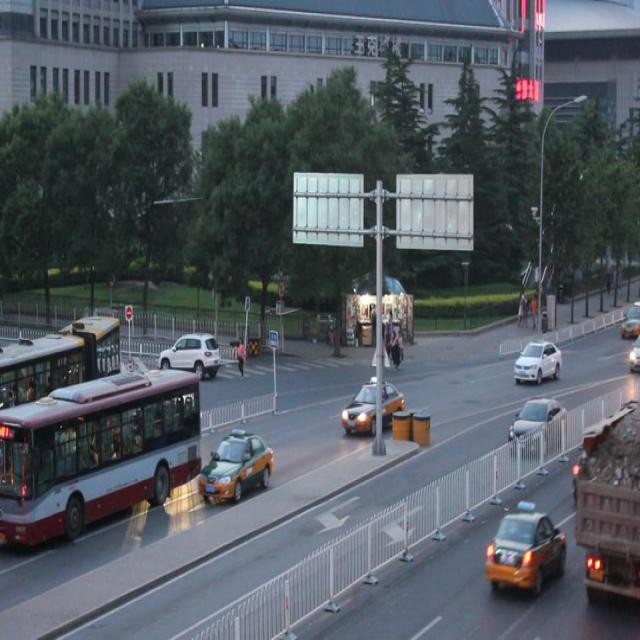bus: (574, 400, 640, 604)
car: (484, 497, 566, 595), (194, 429, 276, 503), (340, 377, 403, 435), (507, 394, 567, 452), (158, 332, 220, 378), (512, 336, 561, 386), (122, 362, 169, 406)
van: (1, 368, 202, 548), (1, 314, 120, 420)
